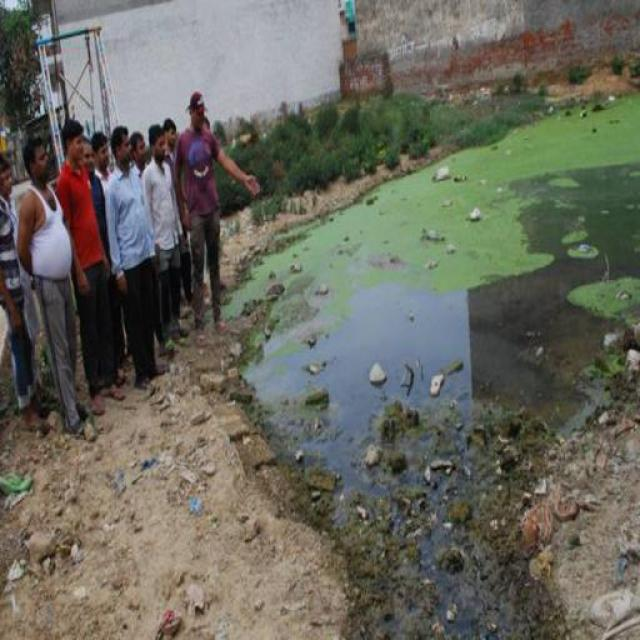puddle: (287, 288, 586, 456), (353, 432, 501, 640), (489, 169, 640, 307)
